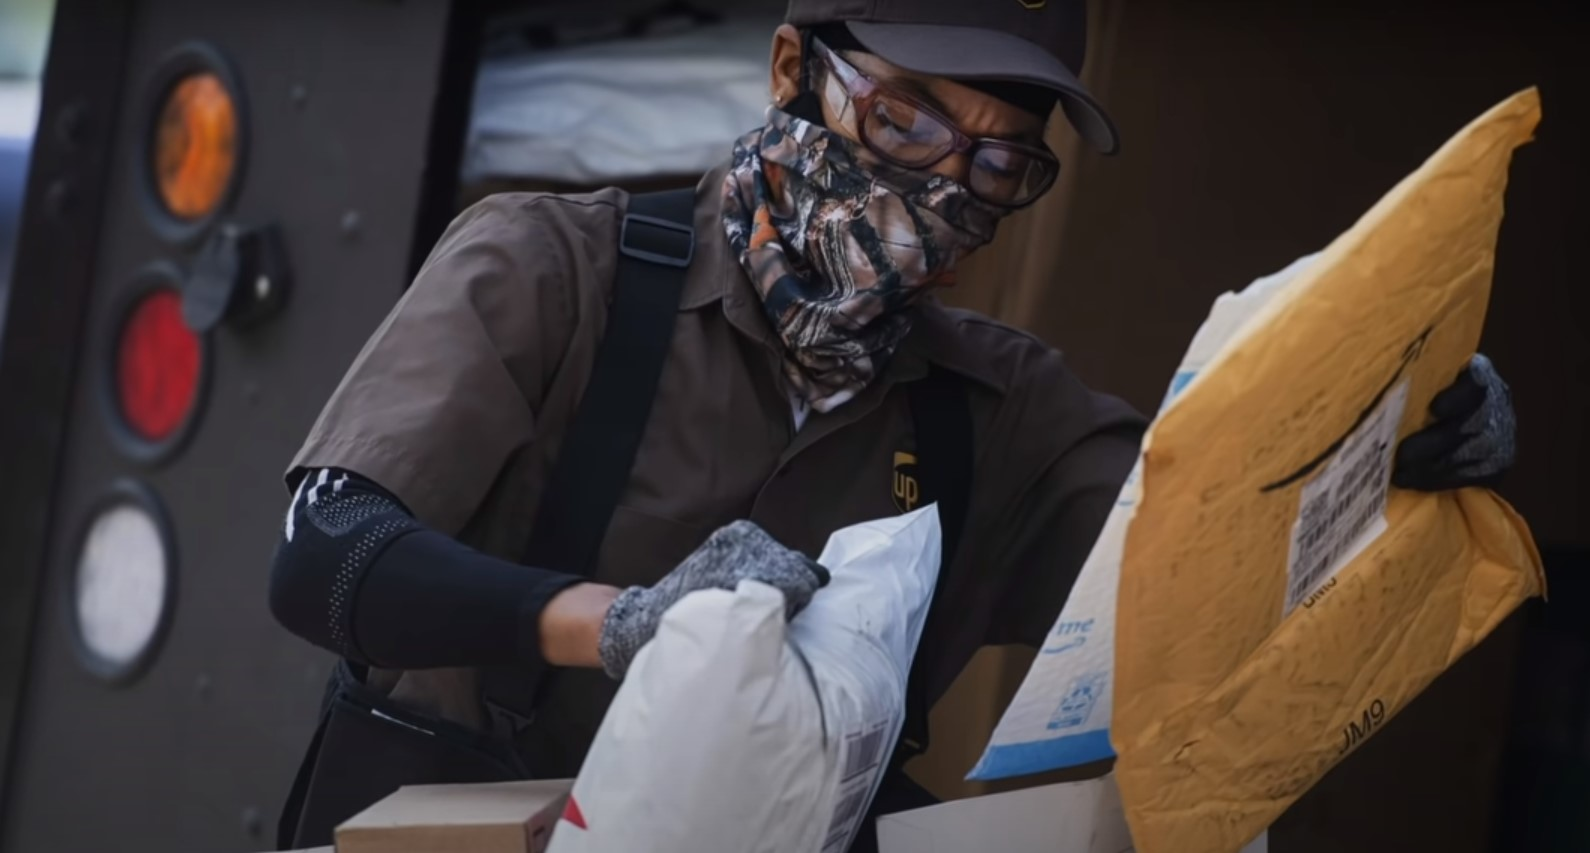face_with_mask: (778, 11, 1070, 352)
